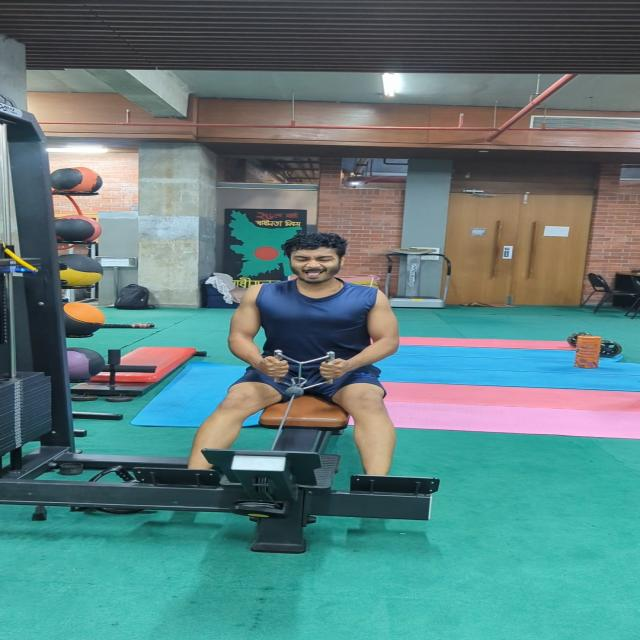Normal_RowingMachineExercise: (183, 231, 404, 479)
